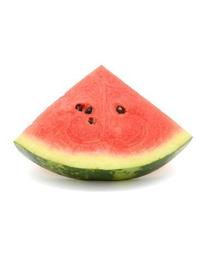watermelon: (14, 65, 193, 182)
